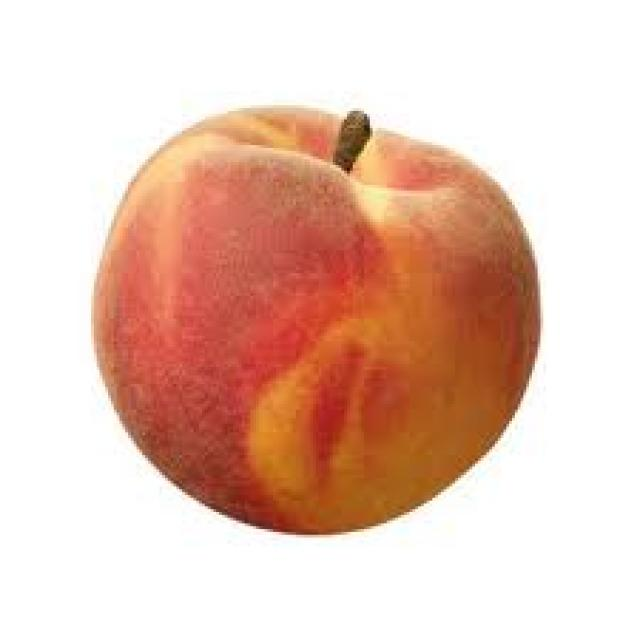pach: (68, 96, 532, 538)
